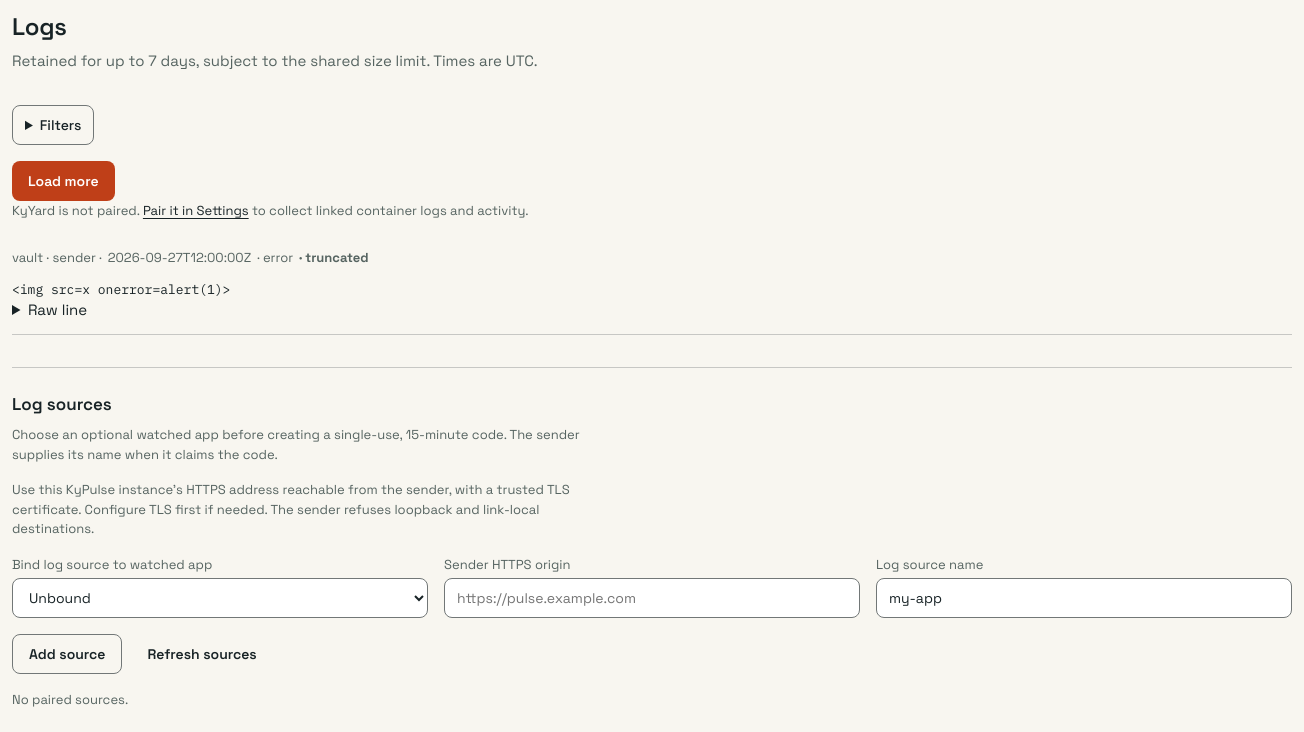
Test: clears retained rows and signals shell sign-out on authorization failure
Expected: the text "<img src=x onerror=alert(1)>" is shown, [12,280,230,298]
What coordinates should you click on to do the following:
click the button "Load more"
I would click on:
 (63, 180)
Its box is [12,160,114,200].
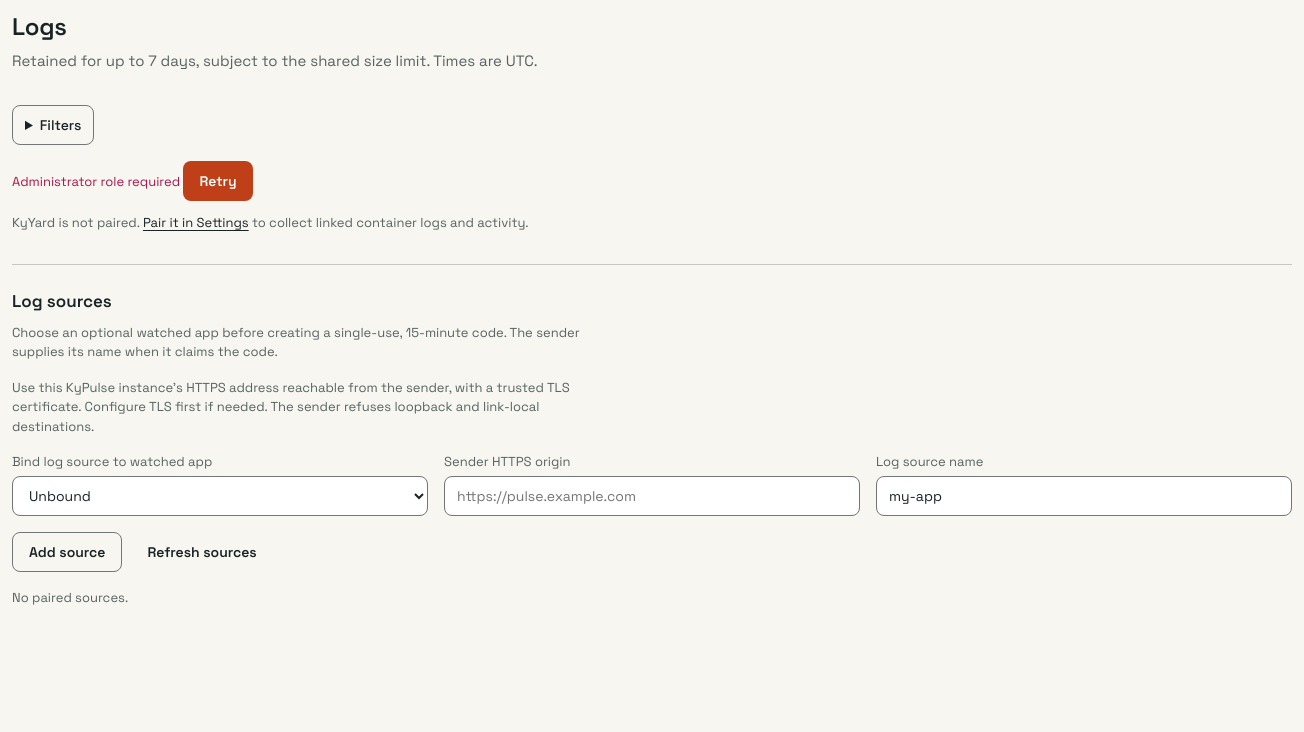
Result: the text "Administrator role required" is shown at [12,172,180,190]
Result: the text "<img src=x onerror=alert(1)>" is gone
